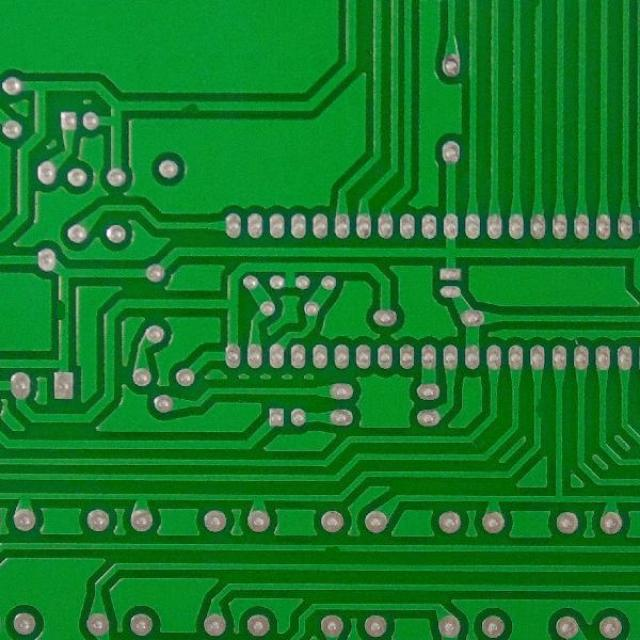MouseBite: (54, 292, 74, 328), (176, 97, 206, 114), (531, 392, 545, 424), (316, 542, 346, 555)
